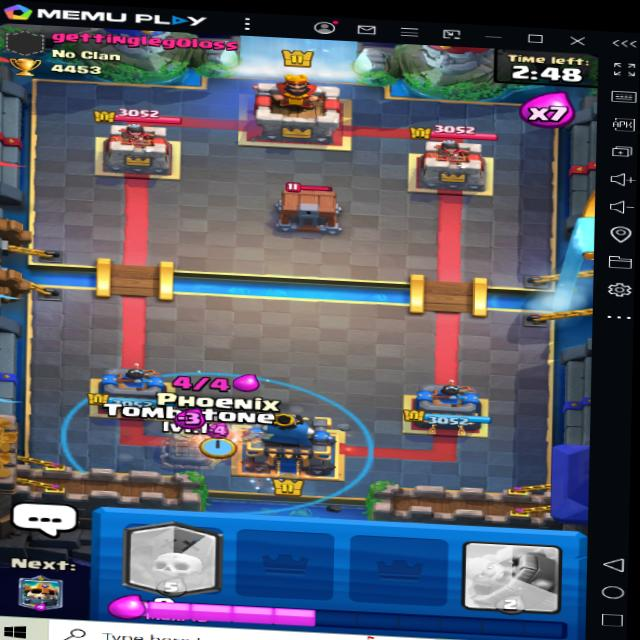goblin-cage: (269, 181, 345, 235)
